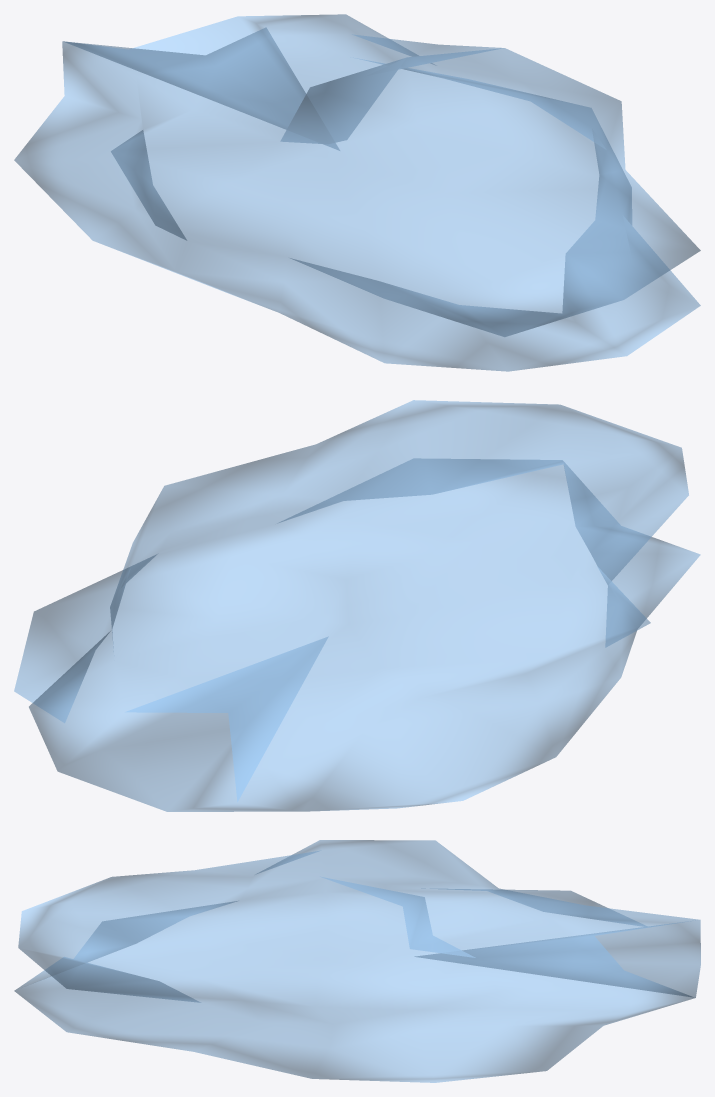
The model's file is mpredator_shield.gltf.
3 views of the same model, one above another, from view 1: azimuth 30°, elevation 25°; view 2: azimuth 150°, elevation 25°; view 3: azimuth 270°, elevation 25° (orthographic). The views are drawn at different scales.
Parts seen in each view (by area): view 1: mpredator.shield; view 2: mpredator.shield; view 3: mpredator.shield.
Part boxes in pixels (<box>): mpredator.shield: <box>14,14,700,371</box>; mpredator.shield: <box>14,400,700,811</box>; mpredator.shield: <box>14,840,700,1082</box>.
Bounding box in the file's own units: 8.8 × 2.03 × 13.06.
